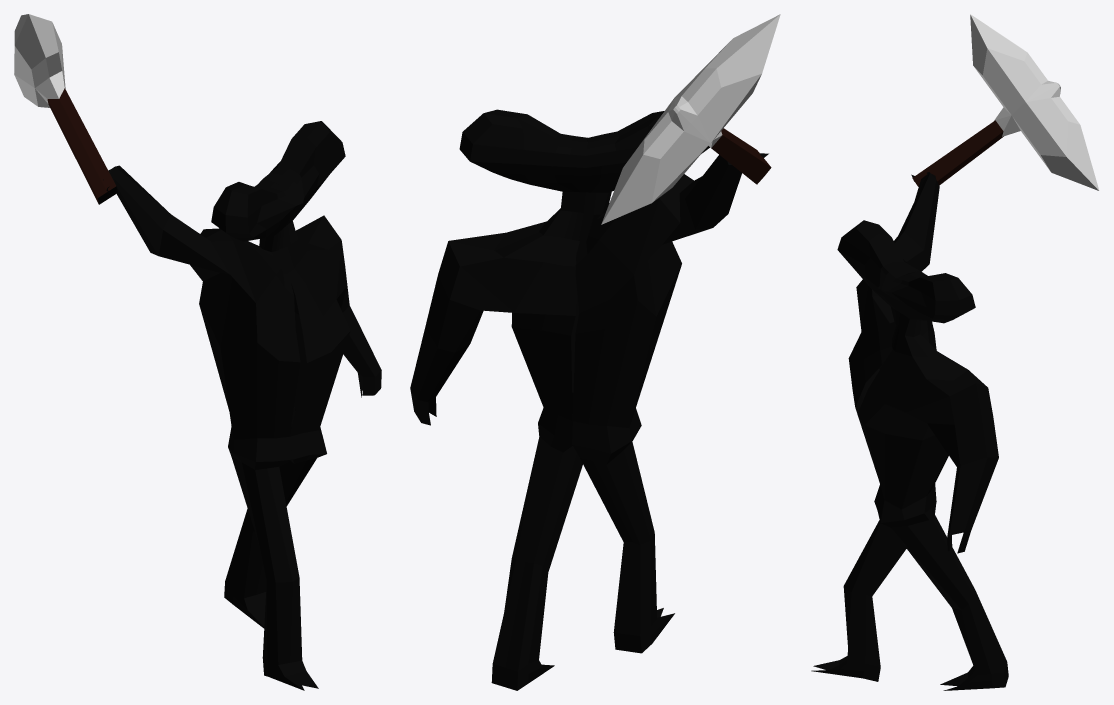
The model's file is Giant1a.obj.
3 views of the same model, side by side, from view 1: azimuth 30°, elevation 25°; view 2: azimuth 150°, elevation 25°; view 3: azimuth 270°, elevation 25° (orthographic). The views are drawn at different scales.
Parts seen in each view (by area): view 1: Cube; view 2: Cube; view 3: Cube.
Part boxes in pixels (x1,y1,x2,y2): Cube: (14,14,381,690); Cube: (410,14,780,690); Cube: (811,14,1099,690).
Bounding box in the file's own units: 0.971 × 1.81 × 0.8189.
